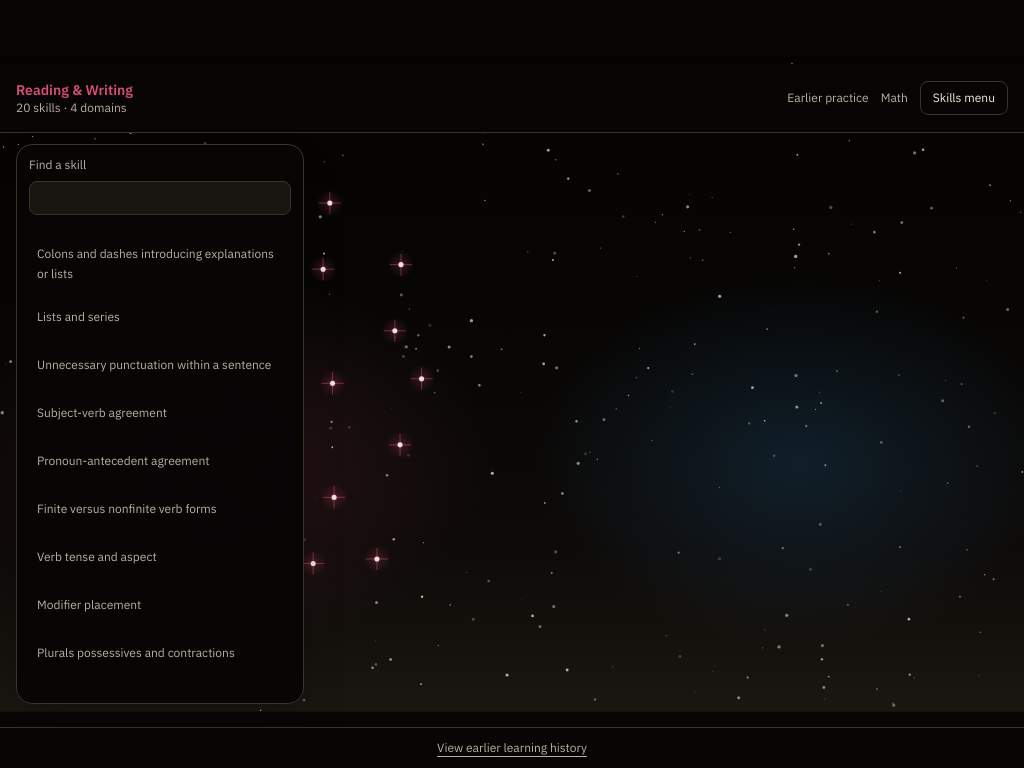
Test: 39-skill menu and preserved lesson history › keeps ambiguous old verb-tense results out of both new selectable practice paths
(page scrolled)
Click the button "Finite versus nonfinite verb forms". click: (160, 509)
box: [29, 487, 291, 531]
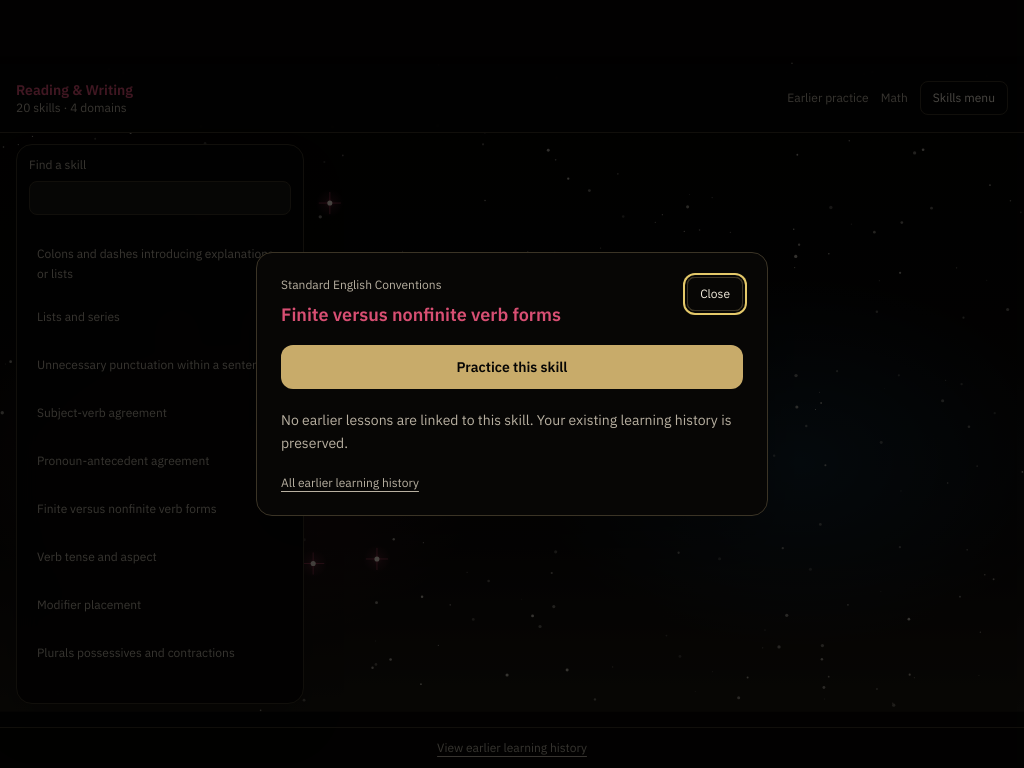
Now the text "No earlier lessons are linked" is shown, box [281, 411, 732, 452]
